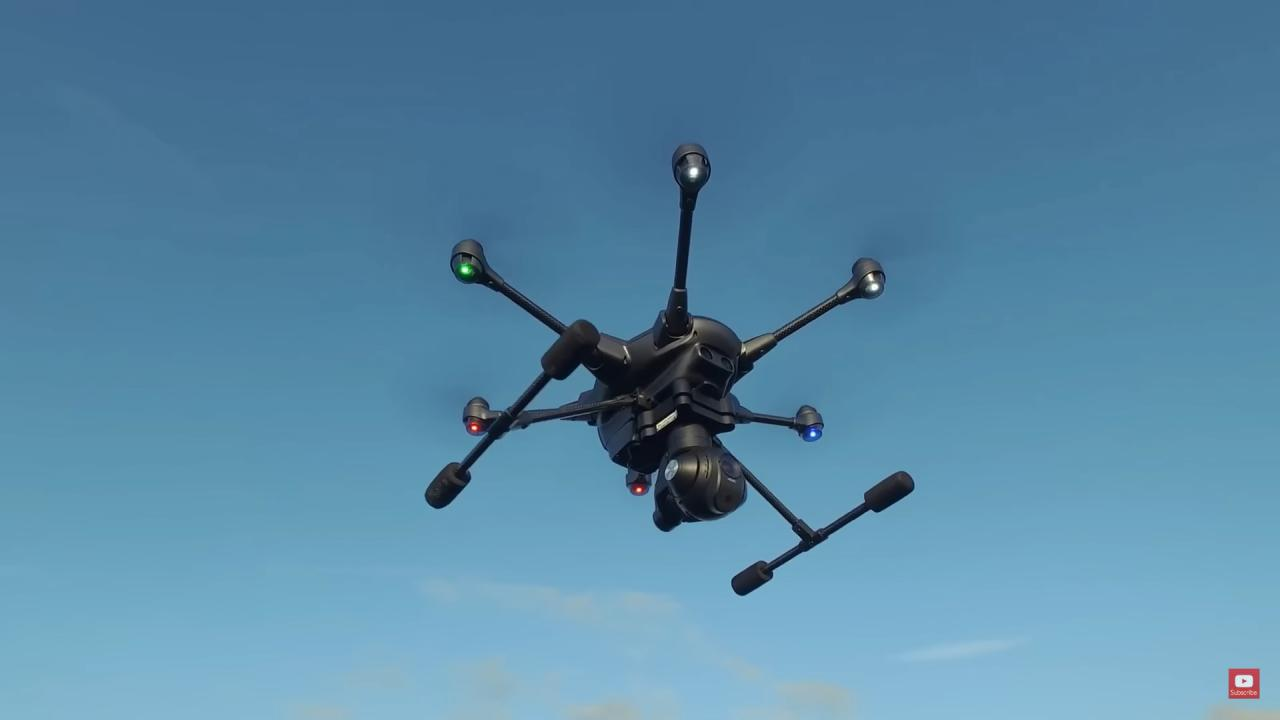Drone: (381, 95, 999, 616)
